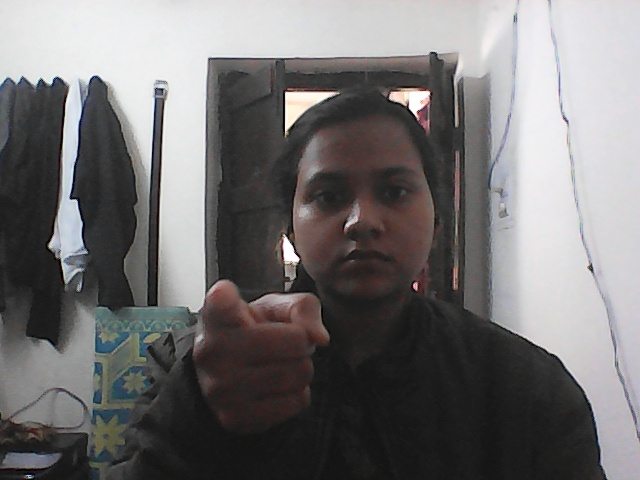You: (140, 233, 364, 446)
